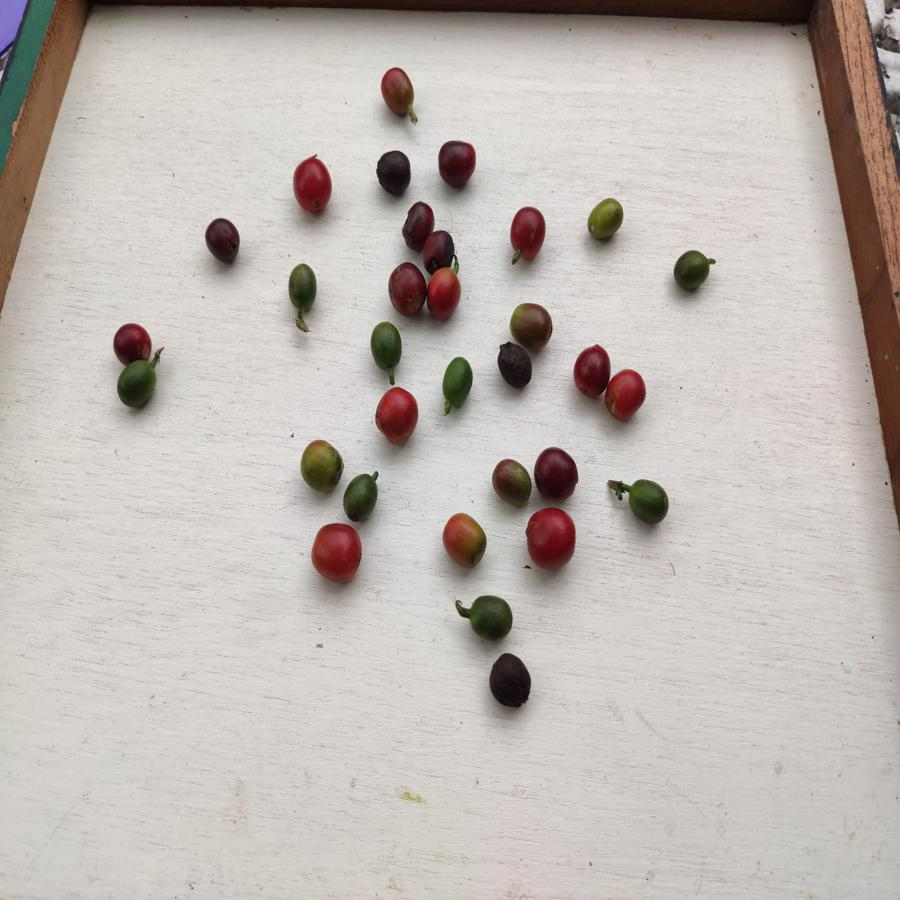Inmaduro: (115, 360, 165, 413), (627, 474, 671, 527), (470, 593, 515, 642), (284, 262, 325, 315), (582, 196, 628, 242), (438, 353, 472, 408), (672, 248, 711, 295), (368, 320, 403, 372), (344, 473, 380, 521)
Maduro: (308, 523, 369, 582), (524, 507, 578, 571), (372, 387, 423, 445), (292, 153, 336, 218), (372, 65, 422, 118), (575, 342, 610, 402), (608, 369, 646, 424), (428, 268, 463, 322)
Pinton: (441, 510, 493, 569), (509, 301, 557, 352), (298, 438, 343, 492), (488, 460, 532, 508)
Sobremaduro: (534, 443, 581, 499), (489, 654, 535, 710), (433, 139, 478, 193), (508, 202, 548, 261), (198, 218, 246, 267), (387, 256, 425, 317), (495, 340, 536, 395), (375, 145, 415, 195), (399, 204, 437, 252), (110, 320, 155, 359), (426, 230, 458, 268)
